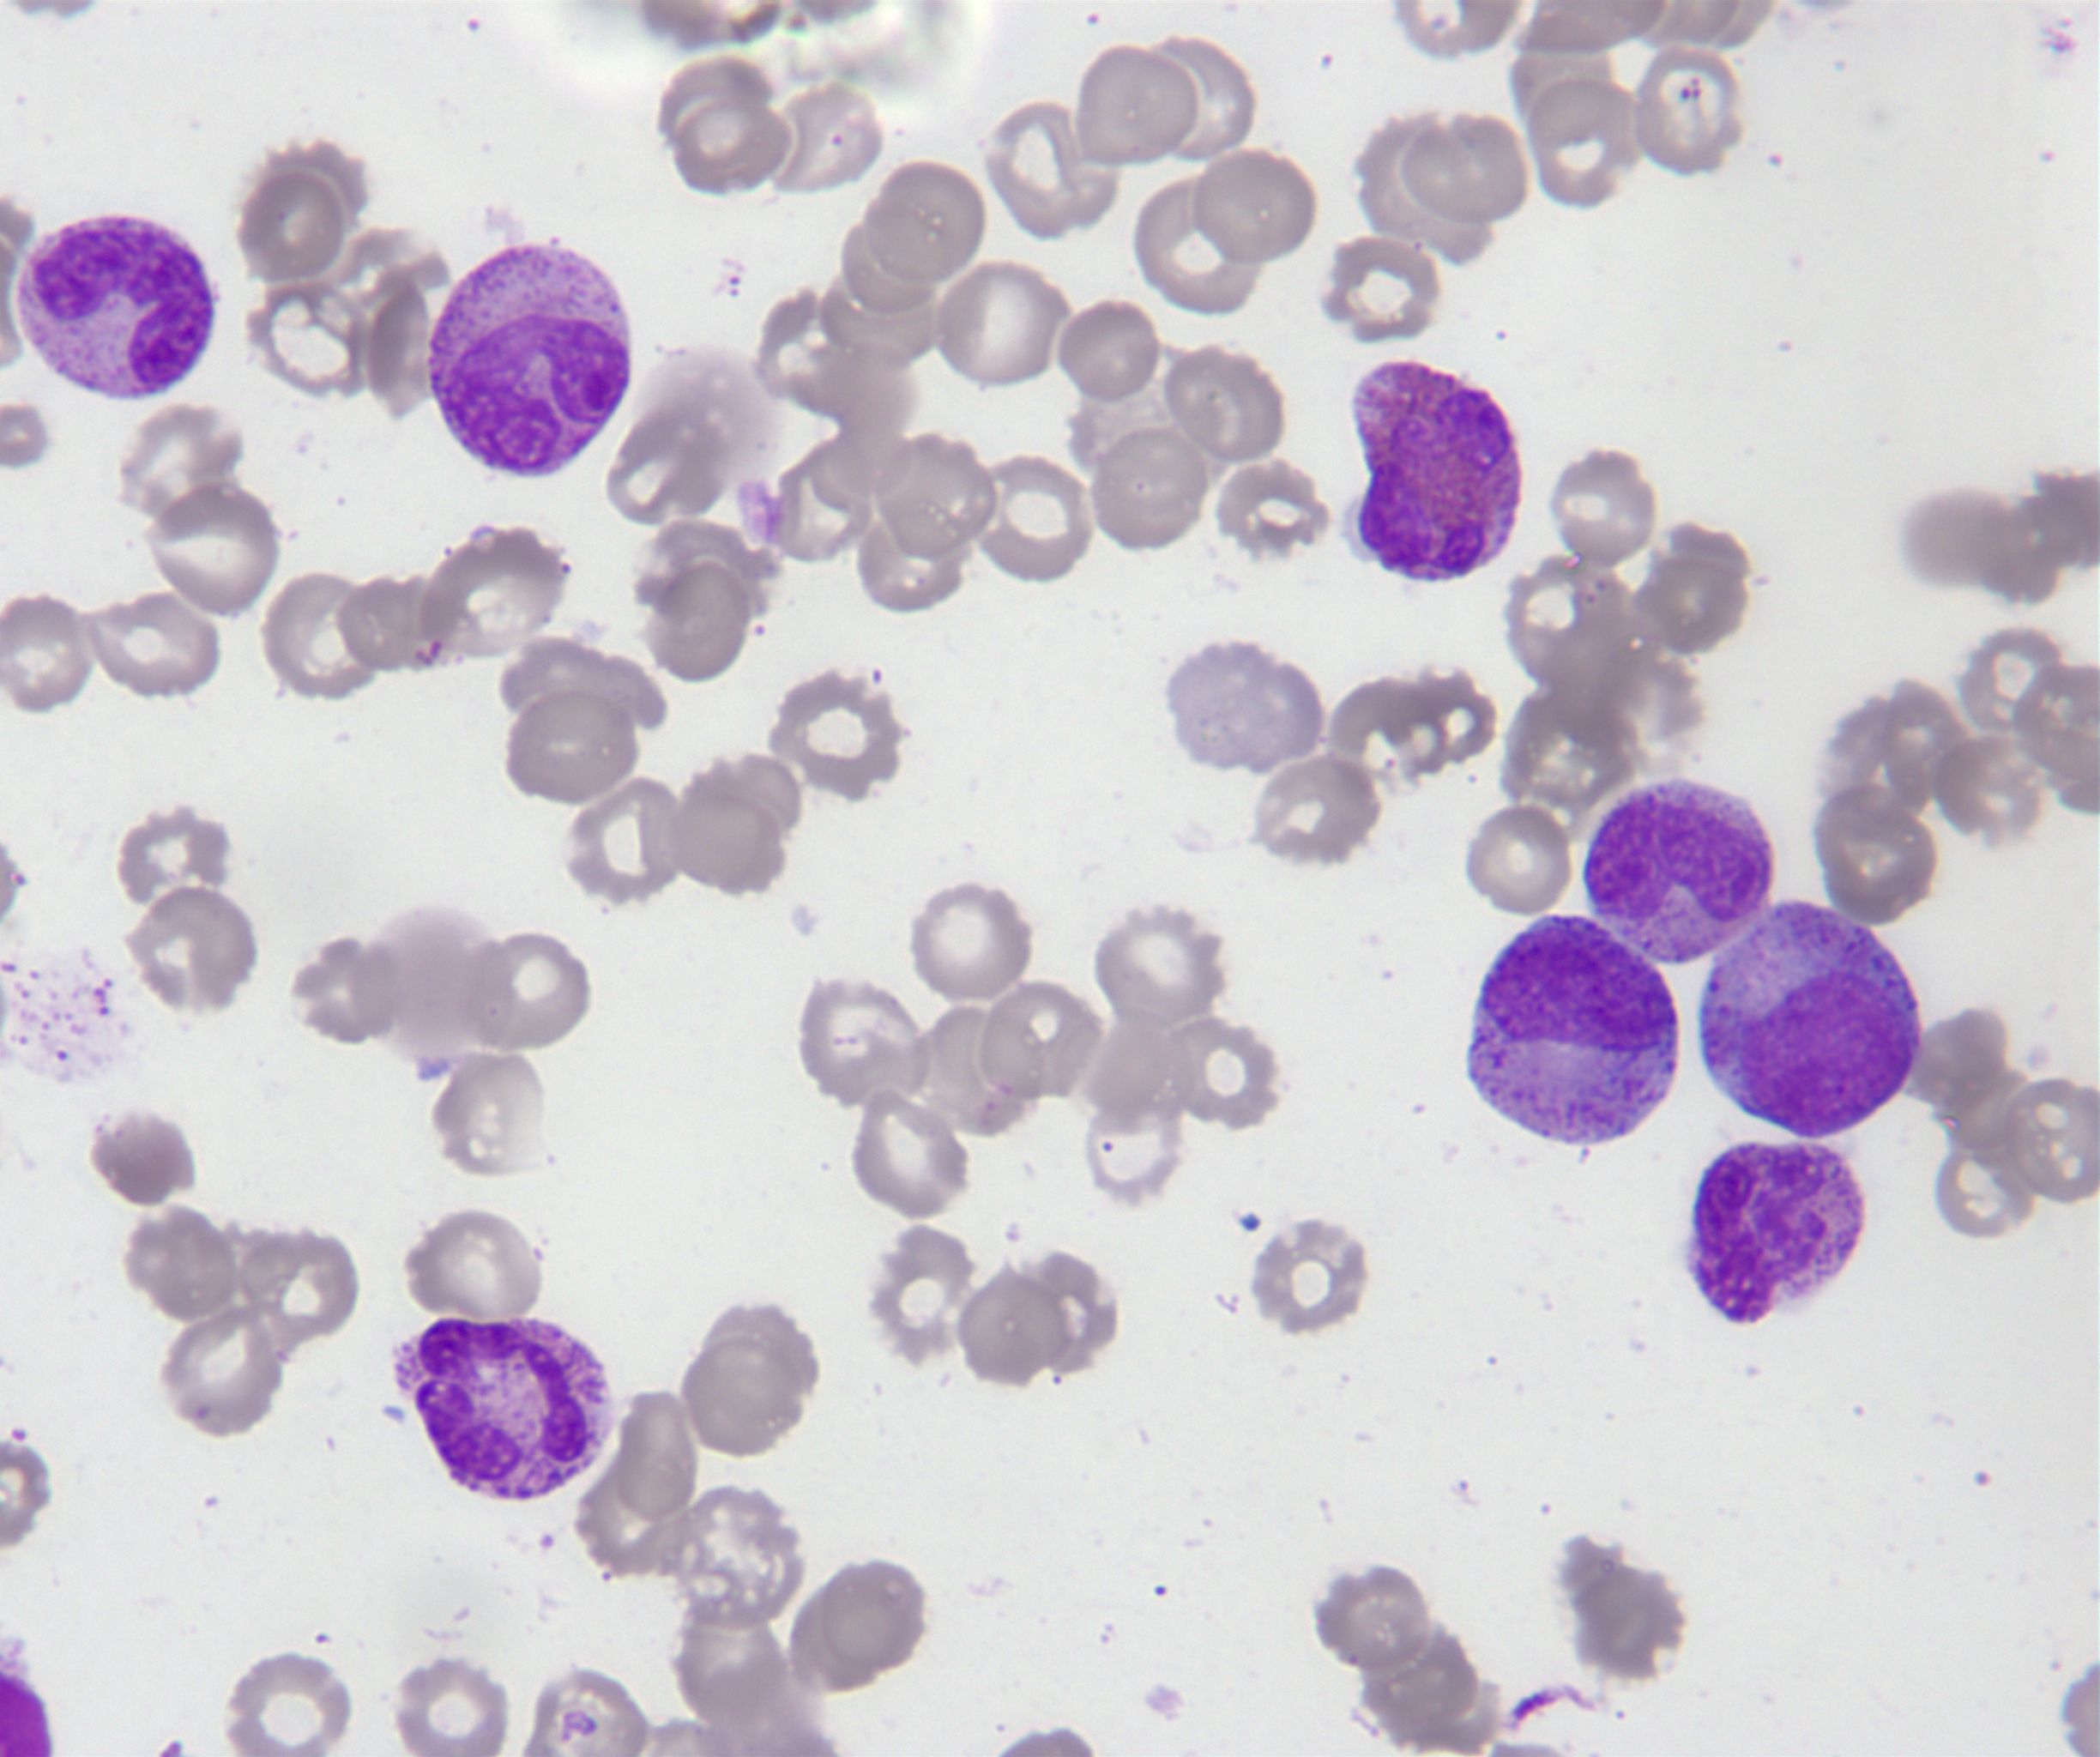3: (1688, 892, 1927, 1145), (1462, 906, 1680, 1153), (1578, 771, 1777, 972)
5: (420, 234, 633, 482), (3, 208, 215, 407)
6: (396, 1309, 626, 1504), (1680, 1138, 1870, 1335)
E4: (1345, 352, 1524, 591)
